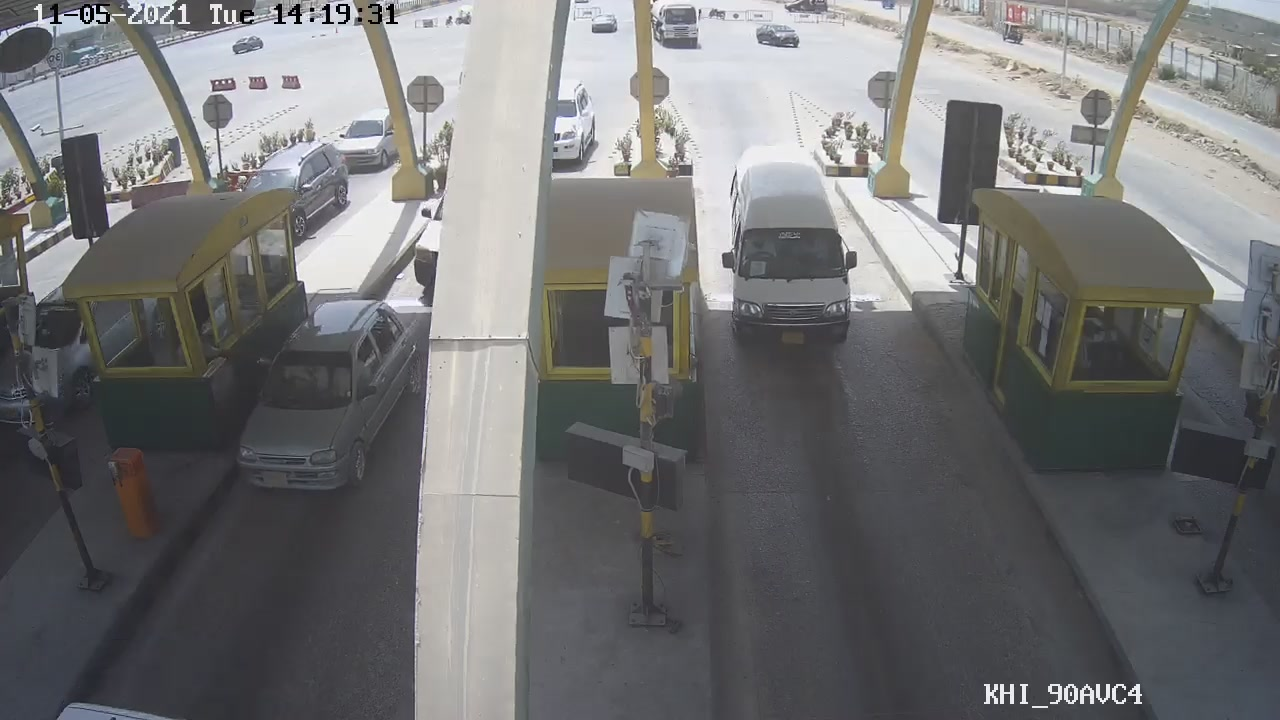F2: (721, 139, 870, 341)
